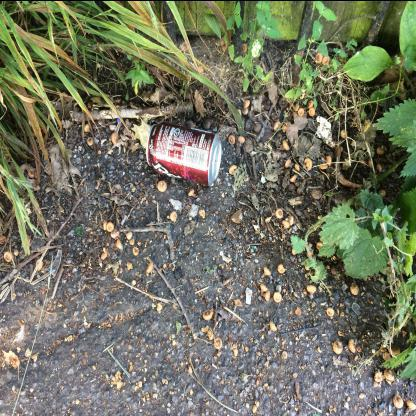metal: (147, 122, 223, 188)
